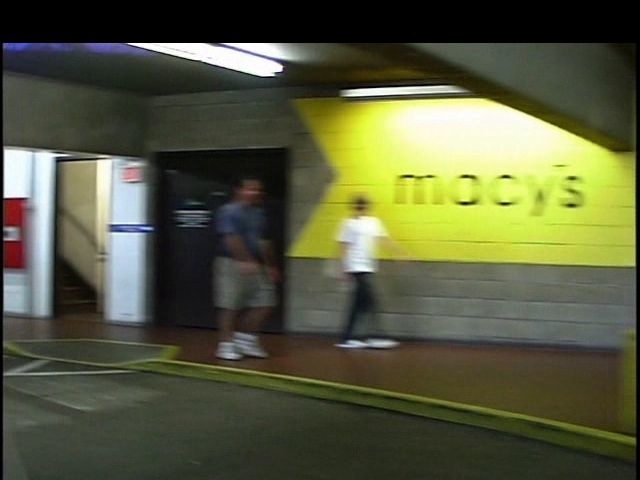person: (192, 170, 282, 365), (304, 186, 390, 361)
